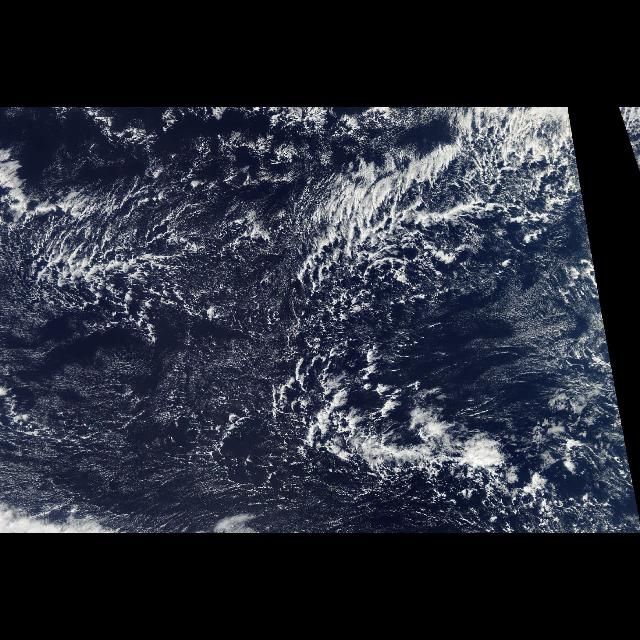Gravel: (262, 229, 430, 489)
Sugar: (0, 289, 252, 499)
